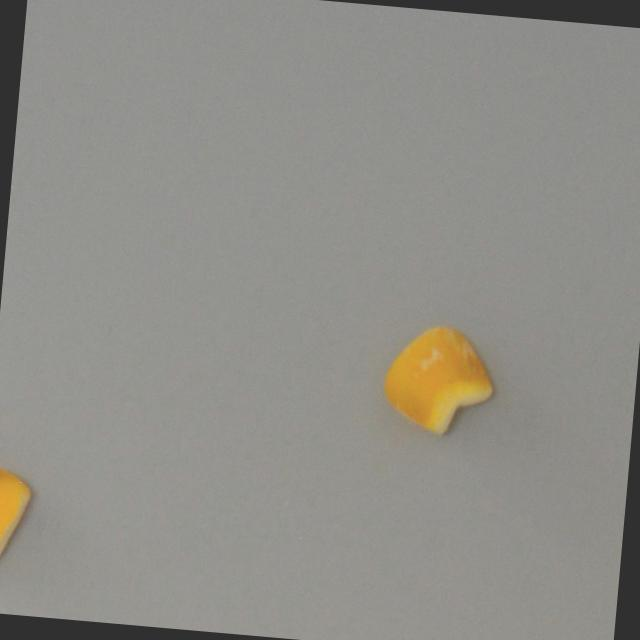dañado: (376, 315, 505, 442), (0, 458, 41, 584)
